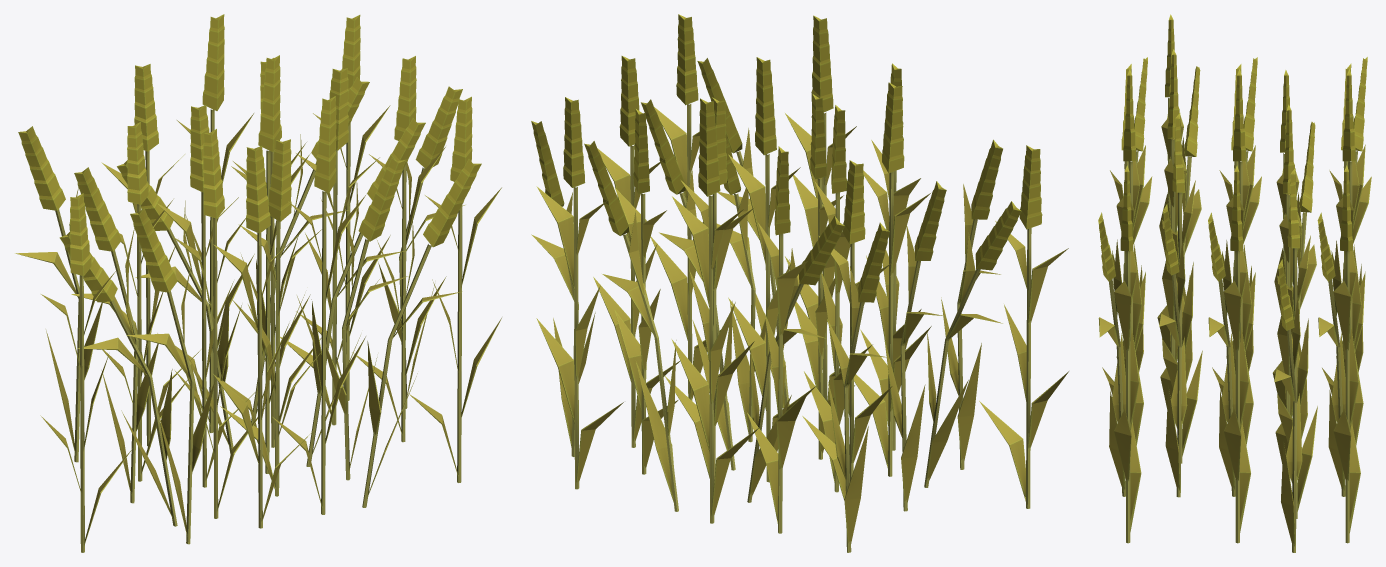
File: whole_plant.glb
3 renders of one model, left to right at view 1: azimuth 30°, elevation 25°; view 2: azimuth 150°, elevation 25°; view 3: azimuth 270°, elevation 25°, orthographic. The views are drawn at different scales.
Parts seen in each view (by area): view 1: FieldOfWheat_mesh; view 2: FieldOfWheat_mesh; view 3: FieldOfWheat_mesh.
Part boxes in pixels (x1=…): FieldOfWheat_mesh: x1=15, y1=14, x2=501, y2=552; FieldOfWheat_mesh: x1=531, y1=14, x2=1068, y2=552; FieldOfWheat_mesh: x1=1098, y1=14, x2=1371, y2=552.
Size of the model in its own units: 2 by 1.66 by 1.01.
Materials: 1 (1 with a texture image).
